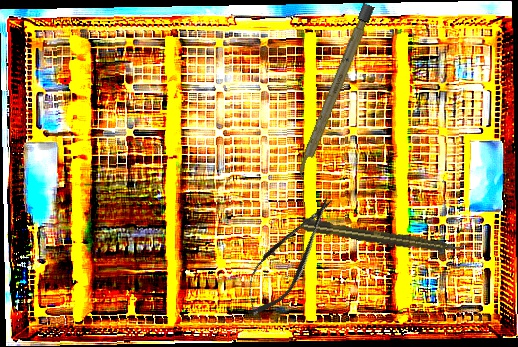Handpiece: (301, 216, 466, 258)
Micro Scissor: (230, 186, 348, 326)
Scalpel Handle: (294, 2, 375, 180)
